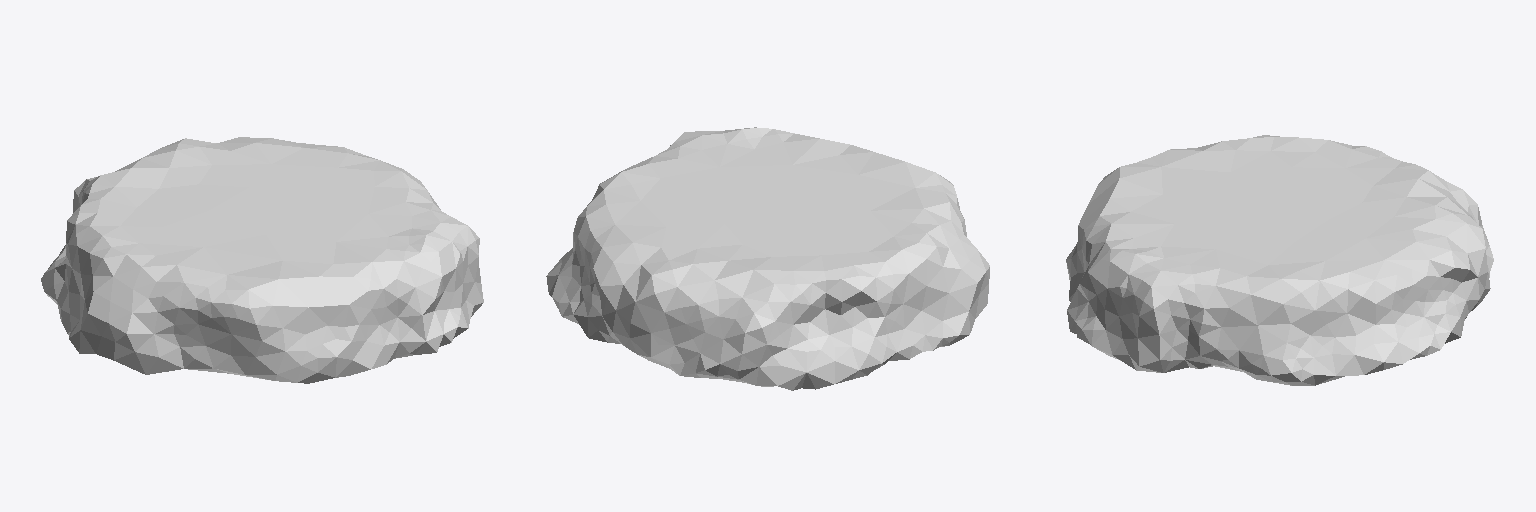
Rendered from RockSet05D.obj.
3 views of the same model, side by side, from view 1: azimuth 30°, elevation 25°; view 2: azimuth 150°, elevation 25°; view 3: azimuth 270°, elevation 25° (orthographic).
Visible parts, largest first — view 1: RockSet05D; view 2: RockSet05D; view 3: RockSet05D.
Part boxes in pixels (bbox=[...]): RockSet05D: bbox=[41, 137, 483, 383]; RockSet05D: bbox=[546, 127, 989, 390]; RockSet05D: bbox=[1066, 135, 1493, 385].
Size of the model in its own units: 21.02 by 5.37 by 20.56.